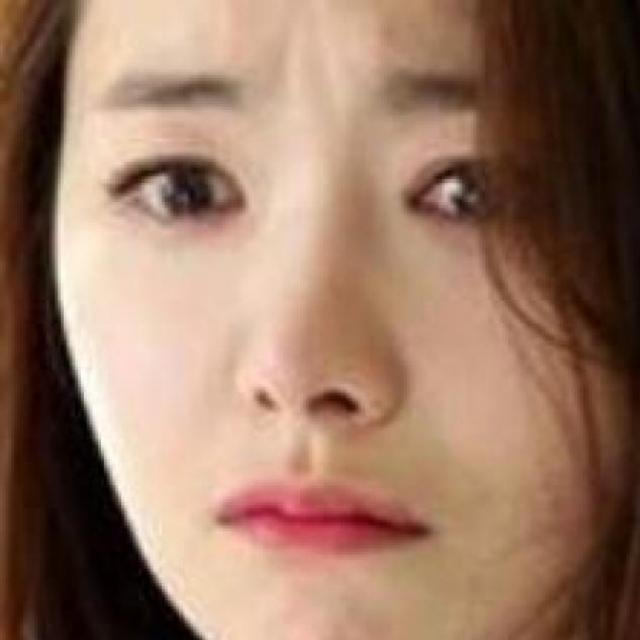Sad: (87, 30, 569, 640)
